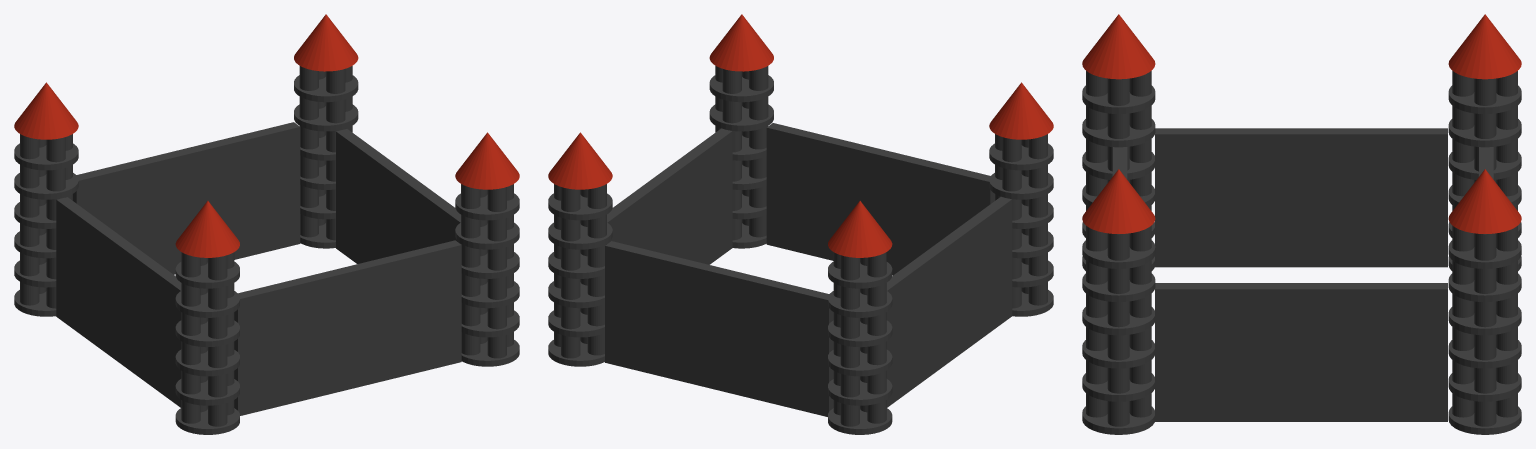
The model's file is fortress.glb.
3 views of the same model, side by side, from view 1: azimuth 30°, elevation 25°; view 2: azimuth 150°, elevation 25°; view 3: azimuth 270°, elevation 25° (orthographic). The views are drawn at different scales.
Visible parts, largest first — view 1: roof.001, roof.003, roof, roof.002, disk.012, disk.015, disk.013, disk.016, disk.005, disk.014, disk.017, disk.004 (+12 smaller); view 2: roof.003, roof.001, roof, roof.002, disk.005, disk.002, disk.004, disk.001, disk.012, disk, disk.003, disk.013 (+12 smaller); view 3: roof, roof.002, roof.001, roof.003, disk.004, disk.013, disk.006, disk.011, disk.018, disk.005, disk.007, disk.008 (+68 smaller).
Boxes of the visible parts, x1=… form: roof.001: x1=294, y1=14, x2=358, y2=71; roof.003: x1=455, y1=132, x2=519, y2=189; roof: x1=14, y1=82, x2=78, y2=139; roof.002: x1=175, y1=201, x2=239, y2=257; disk.012: x1=175, y1=261, x2=239, y2=288; disk.015: x1=175, y1=349, x2=239, y2=376; disk.013: x1=175, y1=291, x2=239, y2=317; disk.016: x1=175, y1=379, x2=239, y2=405; disk.005: x1=14, y1=143, x2=78, y2=170; disk.014: x1=175, y1=320, x2=239, y2=347; disk.017: x1=175, y1=408, x2=239, y2=434; disk.004: x1=14, y1=173, x2=78, y2=199; roof.003: x1=709, y1=14, x2=773, y2=71; roof.001: x1=548, y1=132, x2=612, y2=189; roof: x1=828, y1=201, x2=892, y2=257; roof.002: x1=989, y1=82, x2=1053, y2=139; disk.005: x1=828, y1=261, x2=892, y2=288; disk.002: x1=828, y1=349, x2=892, y2=376; disk.004: x1=828, y1=291, x2=892, y2=317; disk.001: x1=828, y1=379, x2=892, y2=405; disk.012: x1=989, y1=143, x2=1053, y2=170; disk: x1=828, y1=408, x2=892, y2=434; disk.003: x1=828, y1=320, x2=892, y2=347; disk.013: x1=989, y1=173, x2=1053, y2=199; roof: x1=1448, y1=14, x2=1521, y2=79; roof.002: x1=1082, y1=14, x2=1155, y2=79; roof.001: x1=1448, y1=169, x2=1521, y2=233; roof.003: x1=1082, y1=169, x2=1155, y2=233; disk.004: x1=1448, y1=119, x2=1521, y2=147; disk.013: x1=1082, y1=119, x2=1155, y2=147; disk.006: x1=1448, y1=240, x2=1521, y2=268; disk.011: x1=1448, y1=406, x2=1521, y2=434; disk.018: x1=1082, y1=240, x2=1155, y2=268; disk.005: x1=1448, y1=85, x2=1521, y2=113; disk.007: x1=1448, y1=273, x2=1521, y2=302; disk.008: x1=1448, y1=307, x2=1521, y2=335.
Bounding box in the file's own units: 120 × 75.5 × 120.
